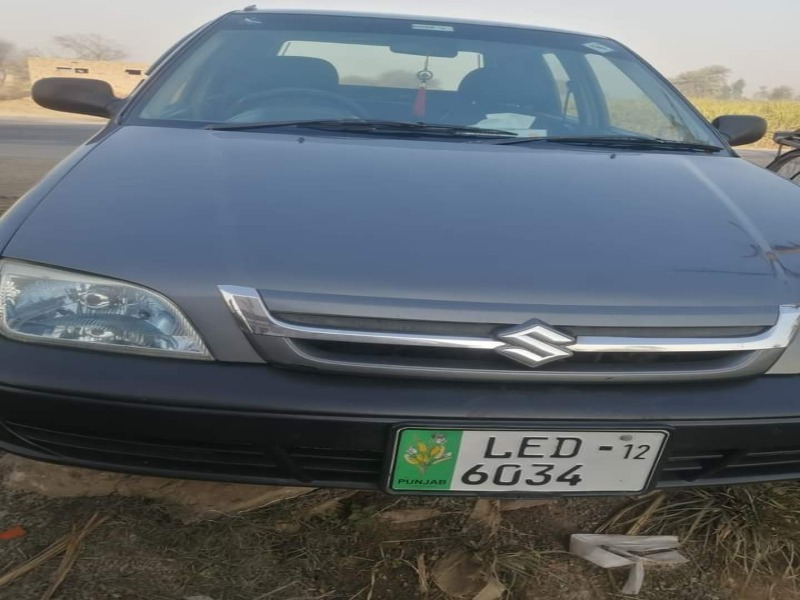License Plate: (378, 420, 669, 505)
